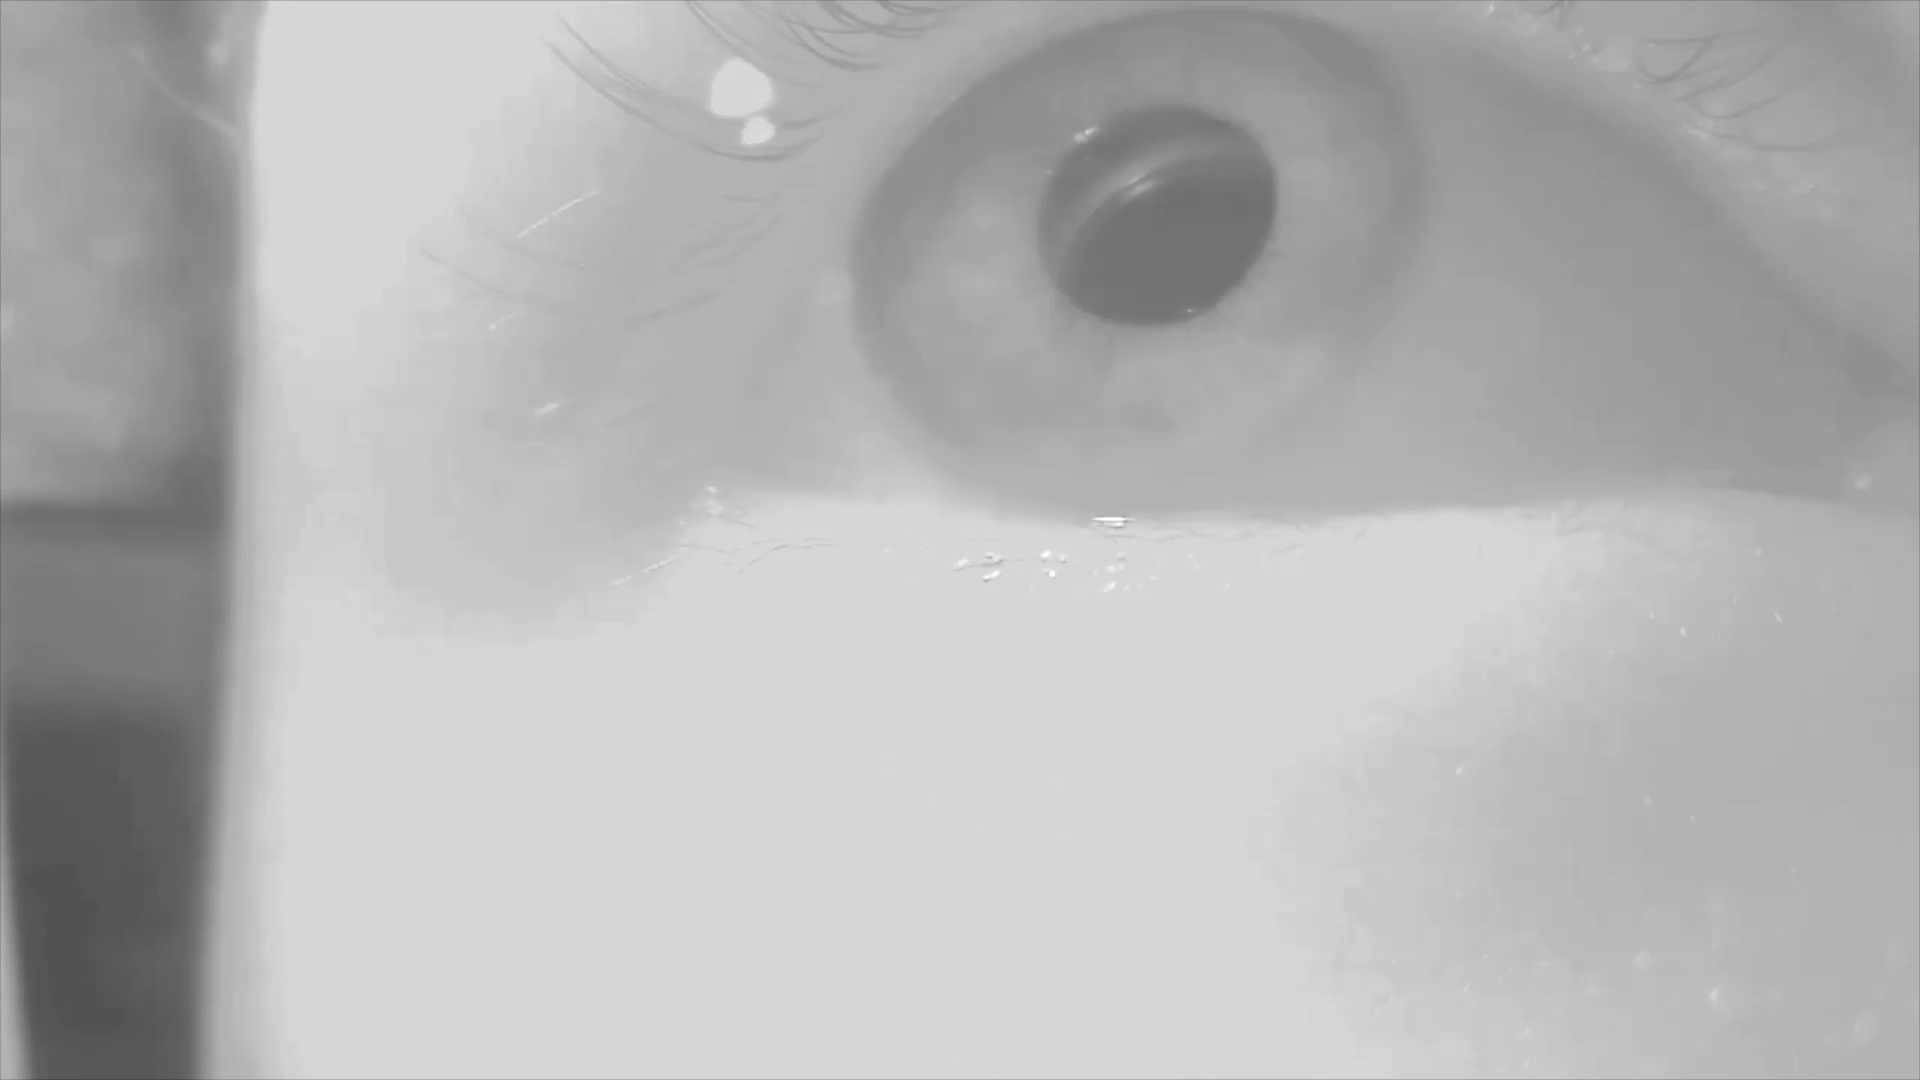pupil: (1043, 107, 1277, 320)
